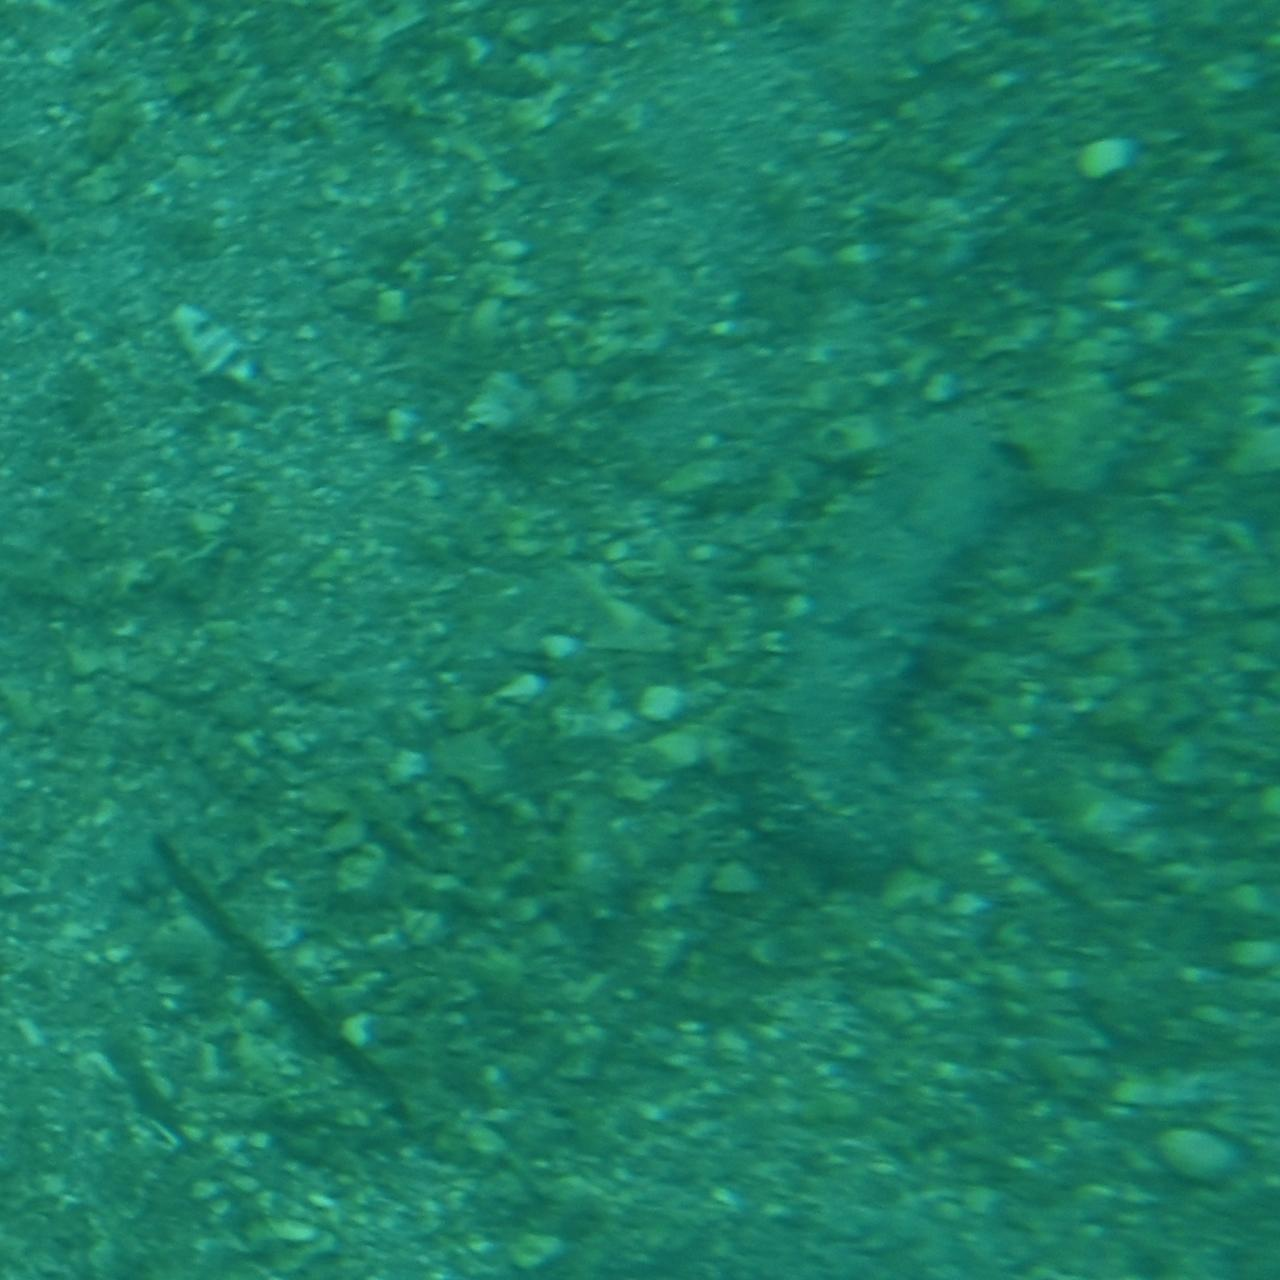Holothuria tubulosa: (760, 388, 1099, 892)
